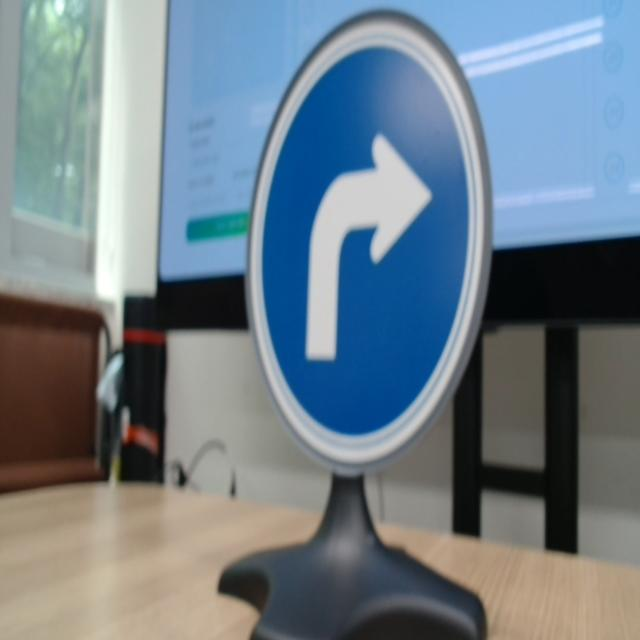right_dierection: (236, 10, 497, 473)
